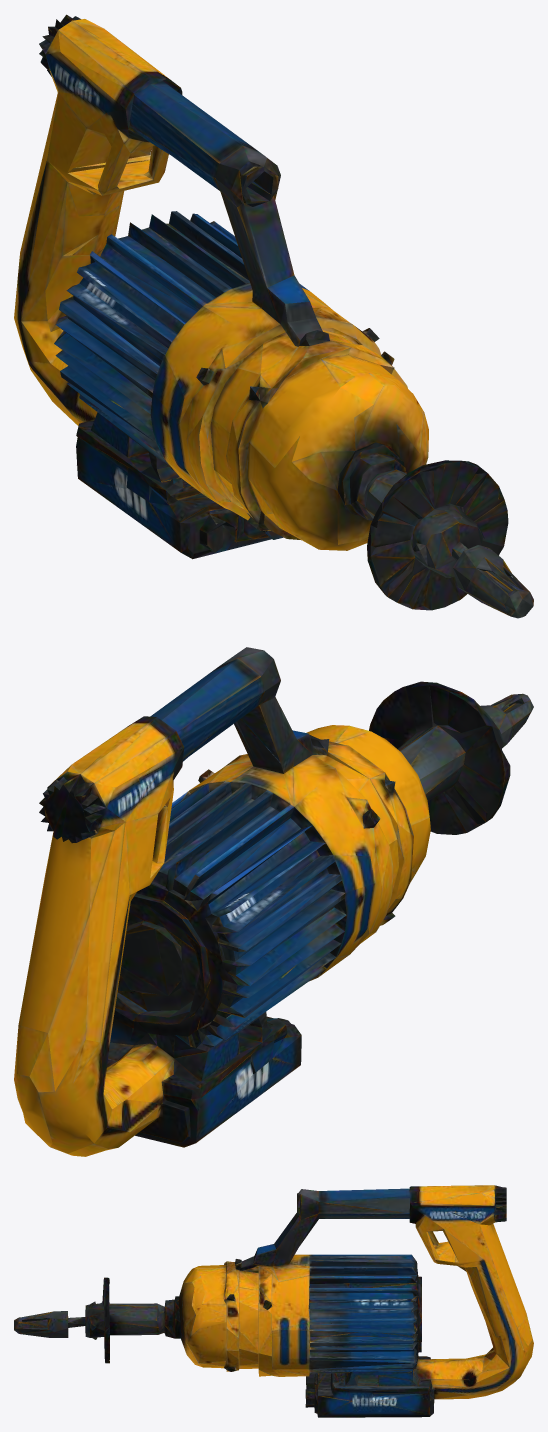
Rendered from piqueur-meshy.glb.
The picture shows the model from 3 angles, top to bottom: view 1: azimuth 30°, elevation 25°; view 2: azimuth 150°, elevation 25°; view 3: azimuth 270°, elevation 25°; orthographic projection. The views are drawn at different scales.
Parts seen in each view (by area): view 1: Mesh_0; view 2: Mesh_0; view 3: Mesh_0.
Part boxes in pixels (<box>): Mesh_0: <box>14,14,533,618</box>; Mesh_0: <box>14,647,533,1156</box>; Mesh_0: <box>14,1185,533,1417</box>.
Size of the model in its own units: 0.2091 by 0.4163 by 0.9.
1 material, 1 textured.
